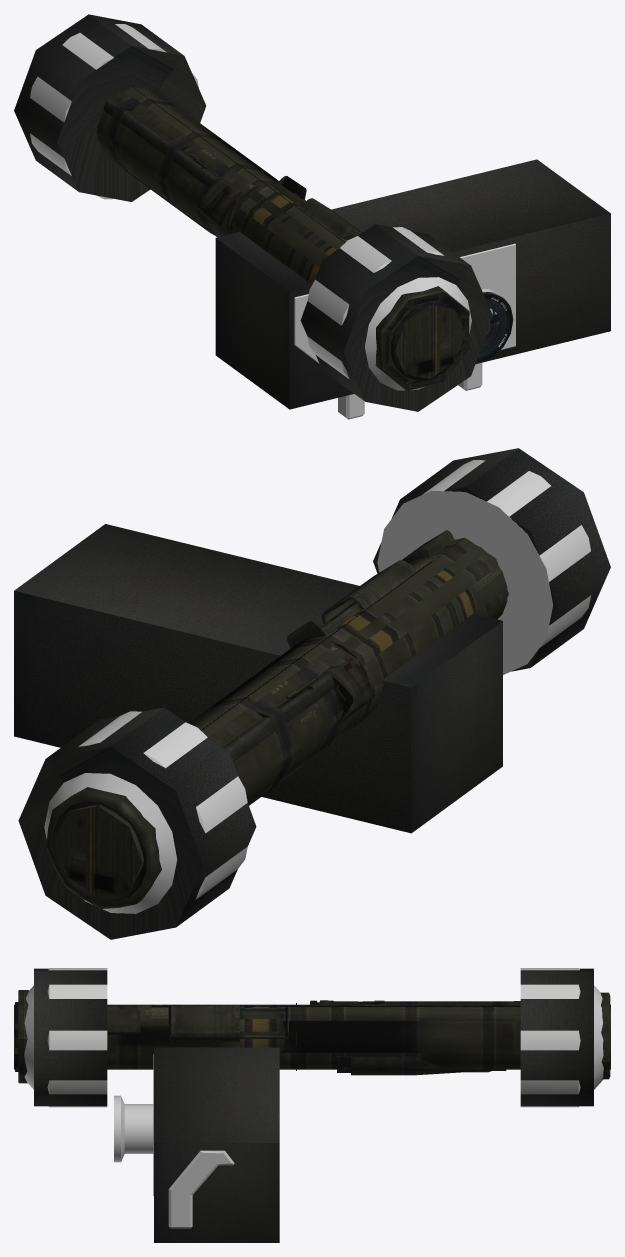
Rendered from javelin.FBX.
3 views of the same model, one above another, from view 1: azimuth 30°, elevation 25°; view 2: azimuth 150°, elevation 25°; view 3: azimuth 270°, elevation 25° (orthographic). The views are drawn at different scales.
Visible parts, largest first — view 1: lod, B_at4; view 2: lod, B_at4; view 3: lod, B_at4.
Boxes of the visible parts, x1,y1,x2,y2 form: lod: [14, 14, 610, 411]; B_at4: [30, 24, 515, 419]; lod: [14, 448, 610, 939]; B_at4: [44, 460, 591, 913]; lod: [14, 968, 610, 1242]; B_at4: [15, 968, 610, 1228].
Bounding box in the file's own units: 47.19 × 31.25 × 84.67.
